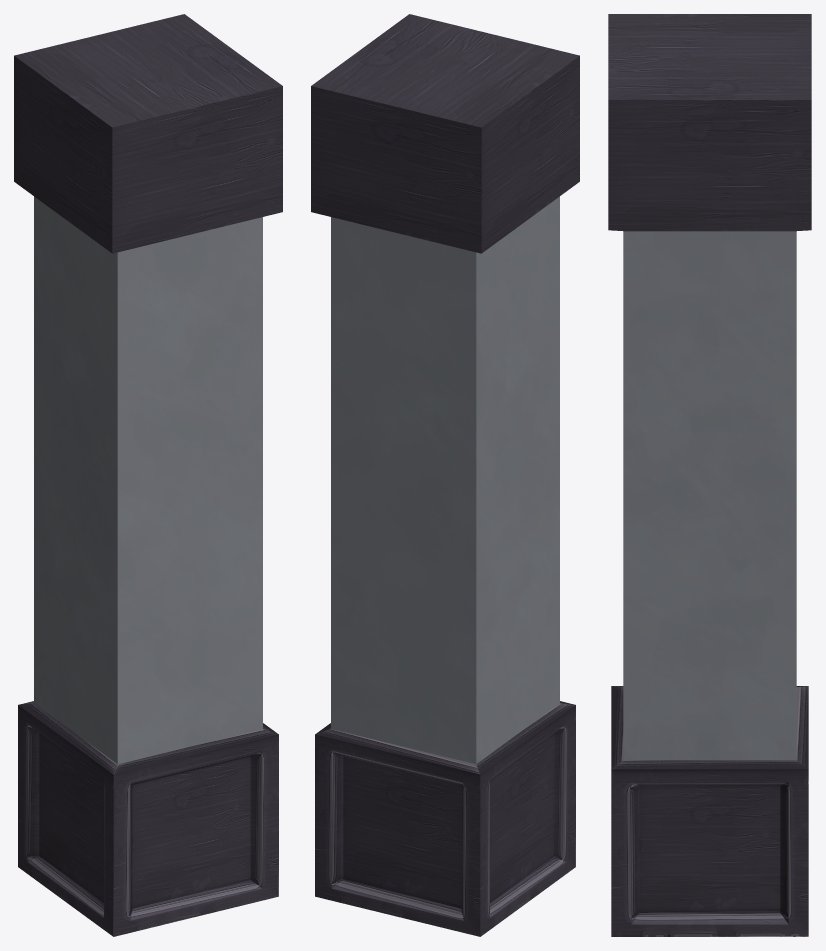
File: Ev_company_inner_pillarmoldingwall.fbx
The picture shows the model from 3 angles, left to right: view 1: azimuth 30°, elevation 25°; view 2: azimuth 150°, elevation 25°; view 3: azimuth 270°, elevation 25°; orthographic projection. The views are drawn at different scales.
Parts seen in each view (by area): view 1: Ev_company_inner_wall_pillar, Ev_company_inner_wall_pillar_molding; view 2: Ev_company_inner_wall_pillar, Ev_company_inner_wall_pillar_molding; view 3: Ev_company_inner_wall_pillar, Ev_company_inner_wall_pillar_molding.
Part boxes in pixels (x1,y1,x2,y2): Ev_company_inner_wall_pillar: (34, 196, 262, 764); Ev_company_inner_wall_pillar_molding: (14, 14, 282, 936); Ev_company_inner_wall_pillar: (331, 196, 559, 764); Ev_company_inner_wall_pillar_molding: (311, 14, 579, 936); Ev_company_inner_wall_pillar: (623, 231, 796, 760); Ev_company_inner_wall_pillar_molding: (608, 14, 811, 936).
Bounding box in the file's own units: 66 × 300 × 66.
